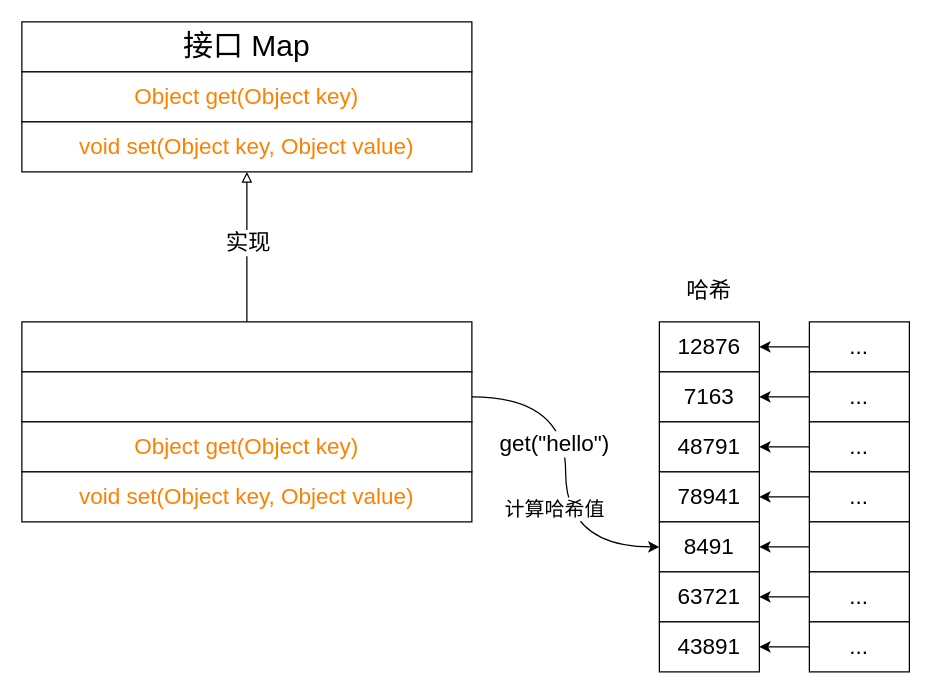
This 931x694 diagram has some shape labels left out. The shapes that lost their labels are listed below. From the top down, each one's centre as x and y in pixels, then its label:
At [246,346]: "类 HashMap".
At [246,396]: "Node<K, V>[] table".
At [858,546]: "你好".
